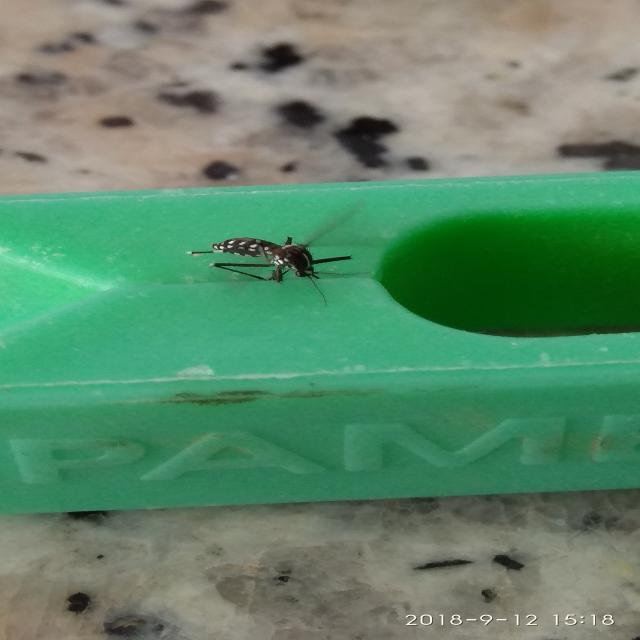albopictus: (182, 222, 374, 308)
